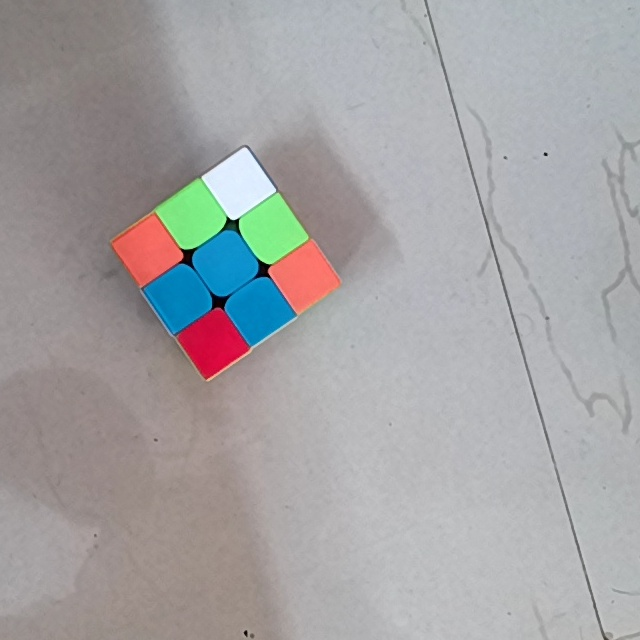tile: (175, 196, 212, 237), (207, 244, 245, 283), (160, 278, 198, 317), (128, 232, 167, 270), (253, 212, 291, 250), (241, 290, 278, 327), (221, 166, 258, 202), (289, 256, 324, 294), (195, 325, 232, 360)
